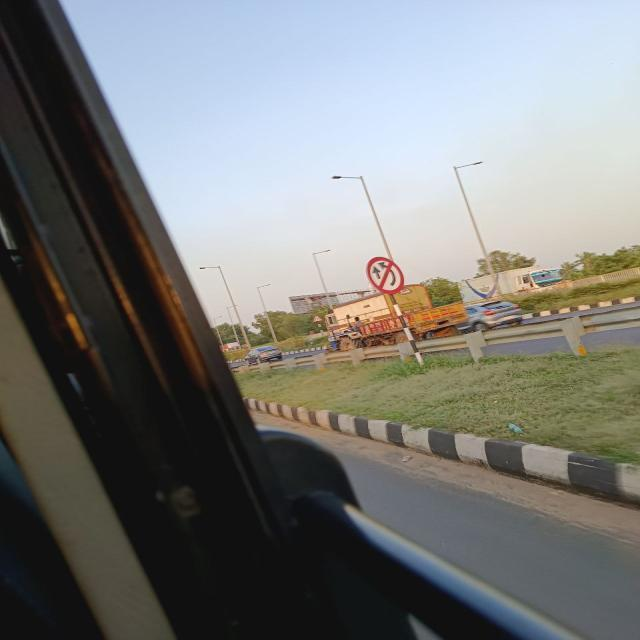overtaking prohibited: (363, 251, 411, 300)
